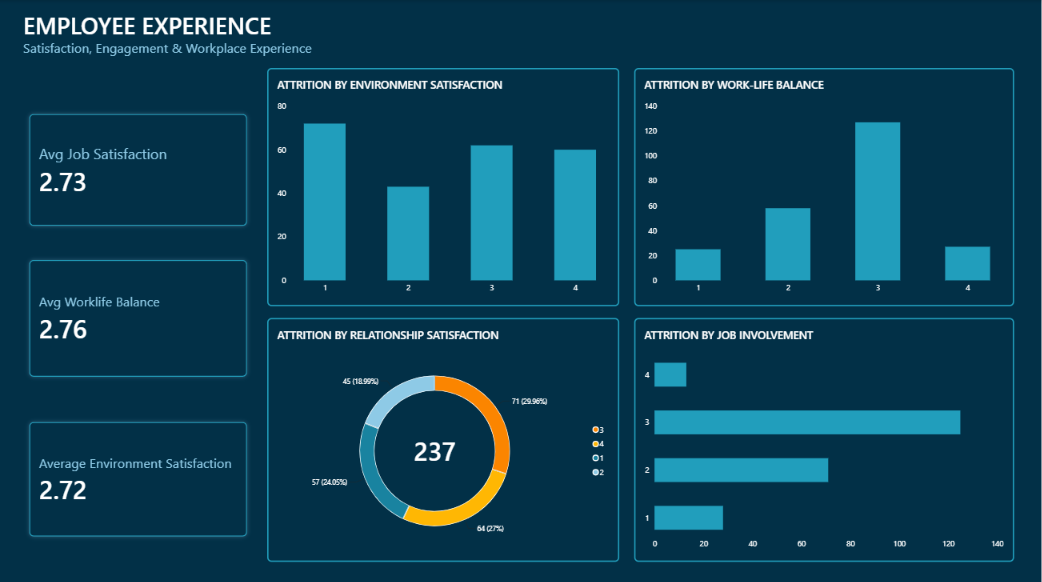

Layout of this report page (visuals, bound fields, positions):
{"tool":"powerbi","page":{"name":"Employee Experience","canvas":[1920,1080],"ordinal":3},"visuals":[{"type":"cardVisual","fields":{"Data":["WA_Fn-UseC_-HR-Employee-Attrition.Avg Job Satisfaction"]},"box":[44.2,198.8,423.3,228.2],"z":0},{"type":"cardVisual","fields":{"Data":["WA_Fn-UseC_-HR-Employee-Attrition.Avg Worklife Balance"]},"box":[44.2,467.5,423.3,237.4],"z":1000},{"type":"cardVisual","fields":{"Data":["WA_Fn-UseC_-HR-Employee-Attrition.Average Environment Satisfaction"]},"box":[44.2,765.6,423.3,233.7],"z":2000},{"type":"clusteredColumnChart","title":"ATTRITION BY WORK-LIFE BALANCE","fields":{"Category":["WA_Fn-UseC_-HR-Employee-Attrition.WorkLifeBalance"],"Y":["WA_Fn-UseC_-HR-Employee-Attrition.Attrition Count"]},"box":[1168.7,125.2,699.4,438],"z":3000},{"type":"clusteredColumnChart","title":"ATTRITION BY ENVIRONMENT SATISFACTION","fields":{"Category":["WA_Fn-UseC_-HR-Employee-Attrition.EnvironmentSatisfaction"],"Y":["WA_Fn-UseC_-HR-Employee-Attrition.Attrition Count"]},"box":[493.3,125.2,647.9,438],"z":4000},{"type":"clusteredBarChart","title":"ATTRITION BY JOB INVOLVEMENT","fields":{"Category":["WA_Fn-UseC_-HR-Employee-Attrition.JobInvolvement"],"Y":["WA_Fn-UseC_-HR-Employee-Attrition.Attrition Count"]},"box":[1168.7,585.3,699.4,449.1],"z":5000},{"type":"donutChart","title":"ATTRITION BY RELATIONSHIP SATISFACTION","fields":{"Category":["WA_Fn-UseC_-HR-Employee-Attrition.RelationshipSatisfaction"],"Y":["WA_Fn-UseC_-HR-Employee-Attrition.Attrition Count"]},"box":[493.3,585.3,647.9,449.1],"z":6000},{"type":"textbox","box":[44.2,16.6,732.5,88.3],"z":10001},{"type":"textbox","box":[44.2,71.8,664.4,66.3],"z":10002}]}

Visuals, with their boxes in screenshot pixels (x1, y1, x2, y2), scaled from the page's 1920x1080 canvas onto the 1042x582 screenshot:
cardVisual - WA_Fn-UseC_-HR-Employee-Attrition.Avg Job Satisfaction: {"left": 24, "top": 107, "right": 254, "bottom": 230}
cardVisual - WA_Fn-UseC_-HR-Employee-Attrition.Avg Worklife Balance: {"left": 24, "top": 252, "right": 254, "bottom": 380}
cardVisual - WA_Fn-UseC_-HR-Employee-Attrition.Average Environment Satisfaction: {"left": 24, "top": 413, "right": 254, "bottom": 539}
"ATTRITION BY WORK-LIFE BALANCE" clusteredColumnChart: {"left": 634, "top": 67, "right": 1014, "bottom": 304}
"ATTRITION BY ENVIRONMENT SATISFACTION" clusteredColumnChart: {"left": 268, "top": 67, "right": 619, "bottom": 304}
"ATTRITION BY JOB INVOLVEMENT" clusteredBarChart: {"left": 634, "top": 315, "right": 1014, "bottom": 557}
"ATTRITION BY RELATIONSHIP SATISFACTION" donutChart: {"left": 268, "top": 315, "right": 619, "bottom": 557}
textbox: {"left": 24, "top": 9, "right": 422, "bottom": 57}
textbox: {"left": 24, "top": 39, "right": 385, "bottom": 74}
